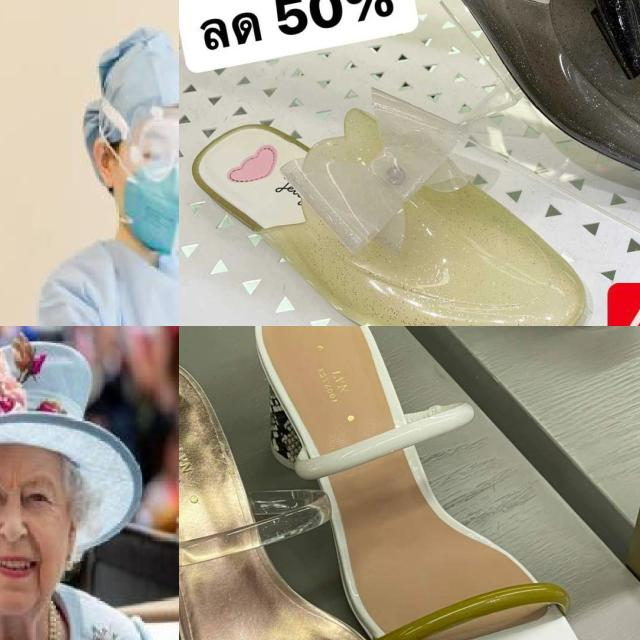No_Glasses: (0, 470, 64, 514)
Sandals: (257, 326, 612, 640), (182, 97, 595, 326), (179, 339, 458, 640), (350, 0, 640, 221)
face_mask: (119, 114, 179, 251)
face_nomask: (0, 456, 68, 629)
glasses: (128, 106, 179, 186)
head_nohelmet: (0, 343, 113, 469), (82, 39, 179, 119)
person: (0, 332, 174, 640), (24, 36, 179, 326)
